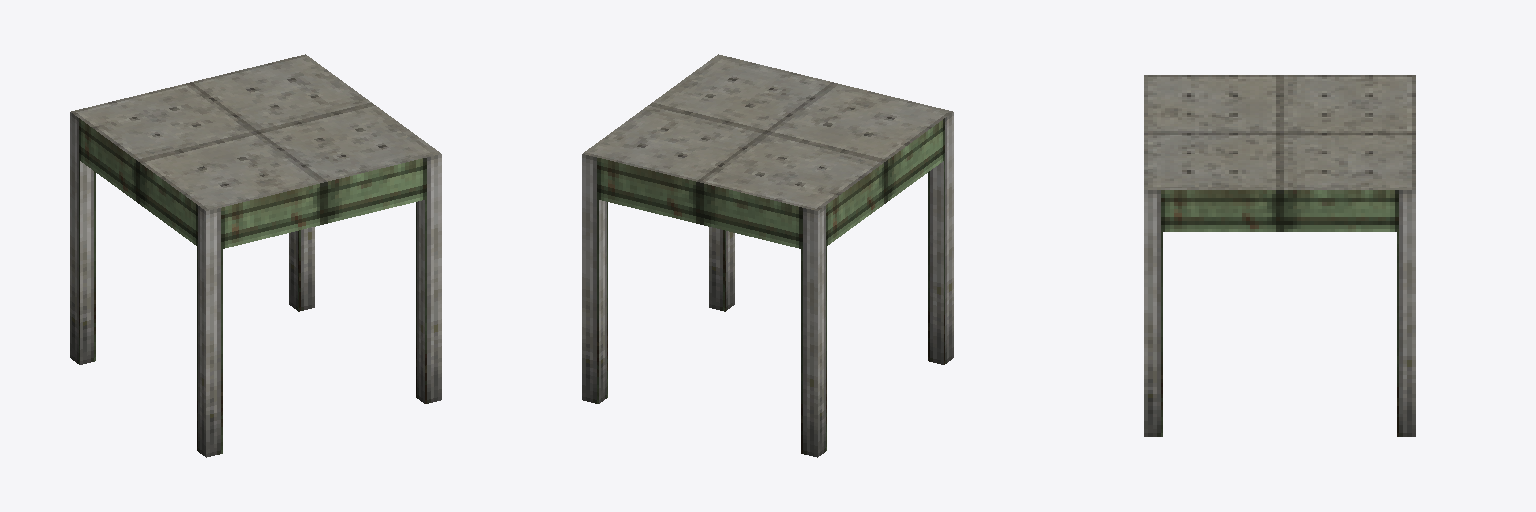
3 views of the same model, side by side, from view 1: azimuth 30°, elevation 25°; view 2: azimuth 150°, elevation 25°; view 3: azimuth 270°, elevation 25° (orthographic).
Parts seen in each view (by area): view 1: wallB_open; view 2: wallB_open; view 3: wallB_open.
Boxes of the visible parts, <box> form: wallB_open: <box>70,54,441,457</box>; wallB_open: <box>582,54,953,457</box>; wallB_open: <box>1144,75,1415,436</box>.
Bounding box in the file's own units: 1 × 1 × 1.
Materials: 2 (2 with a texture image).